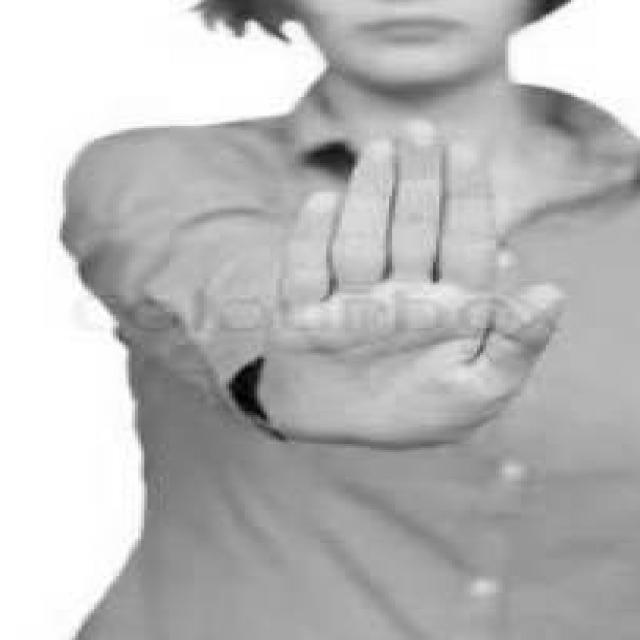stop: (242, 110, 577, 458)
